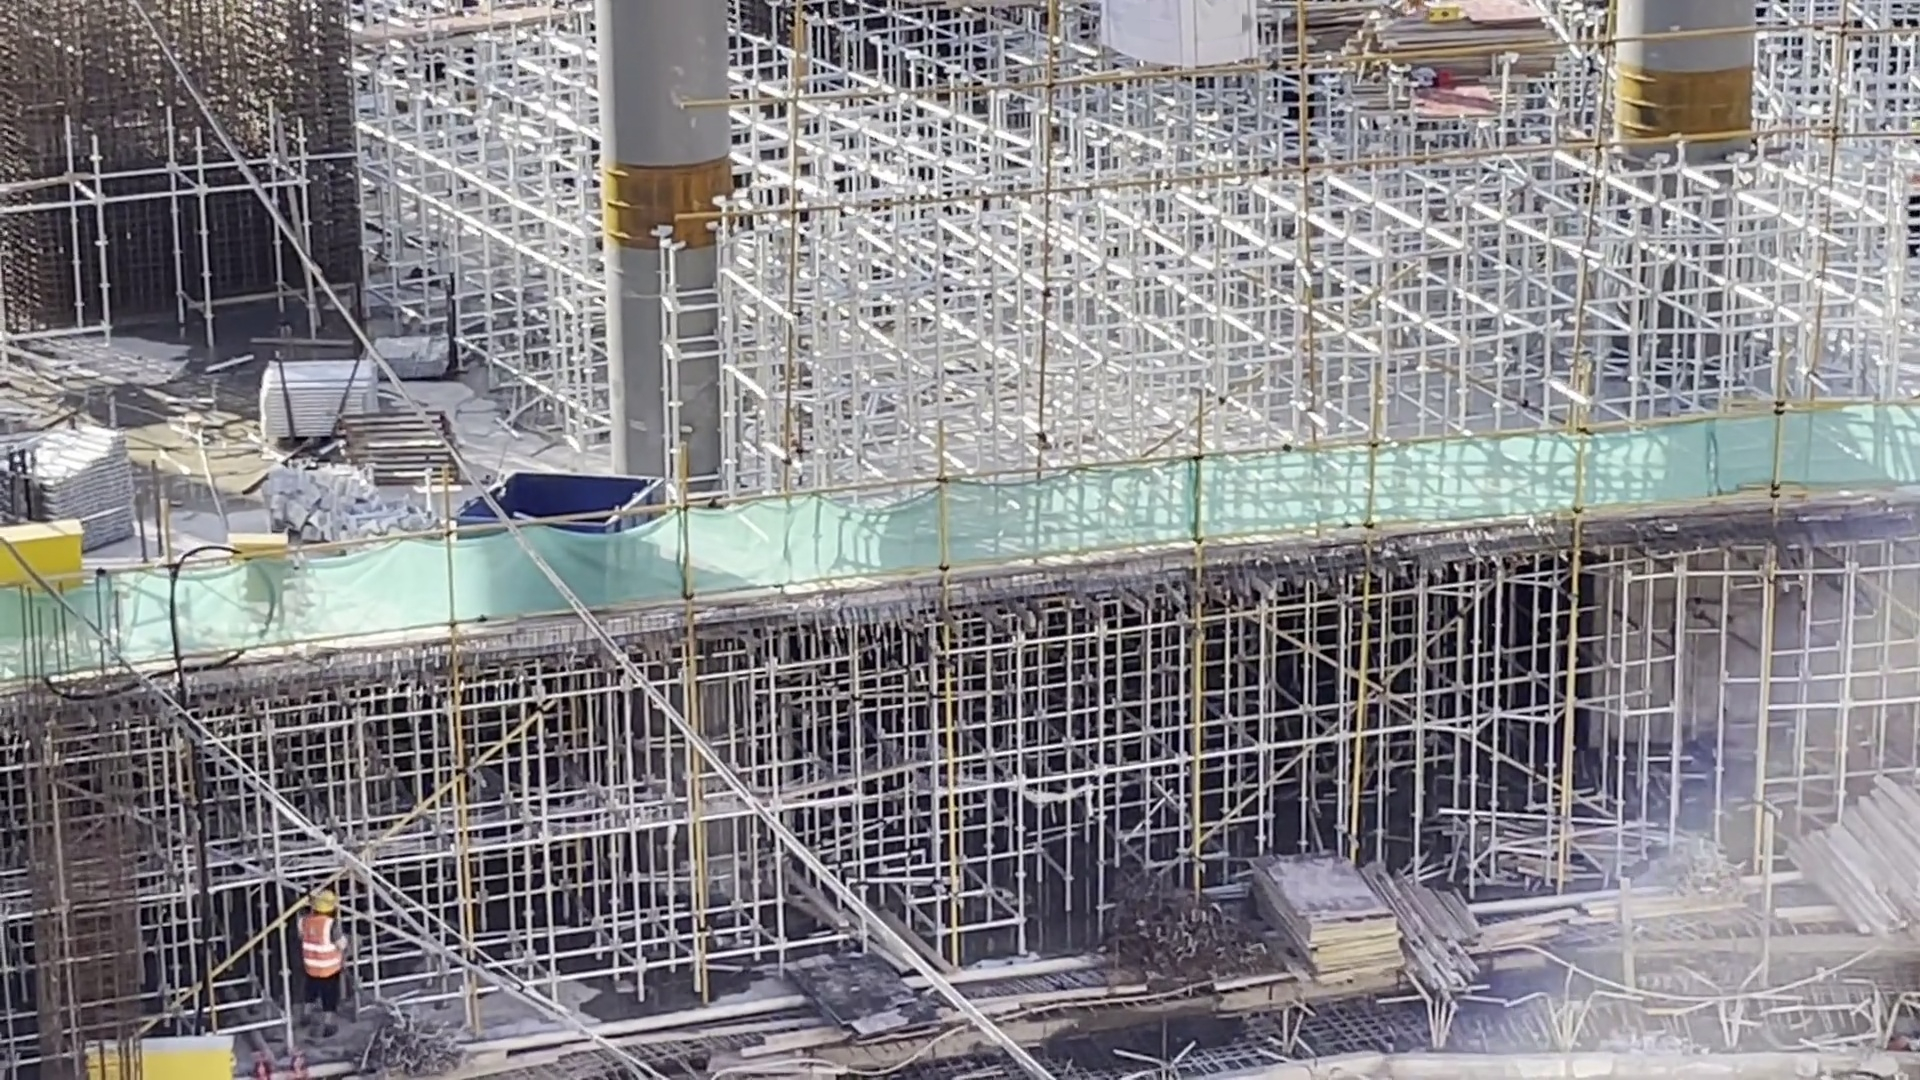board: (1282, 1, 1549, 94), (1274, 847, 1393, 982)
ebox: (1, 536, 86, 636), (66, 1036, 244, 1080), (216, 562, 314, 606)
helmet: (303, 886, 336, 914)
hopper: (473, 461, 689, 584)
person: (289, 883, 336, 1026)
scaffold: (8, 406, 138, 529), (258, 357, 378, 444)
vest: (303, 919, 336, 974)
wood: (1801, 772, 1920, 906)
